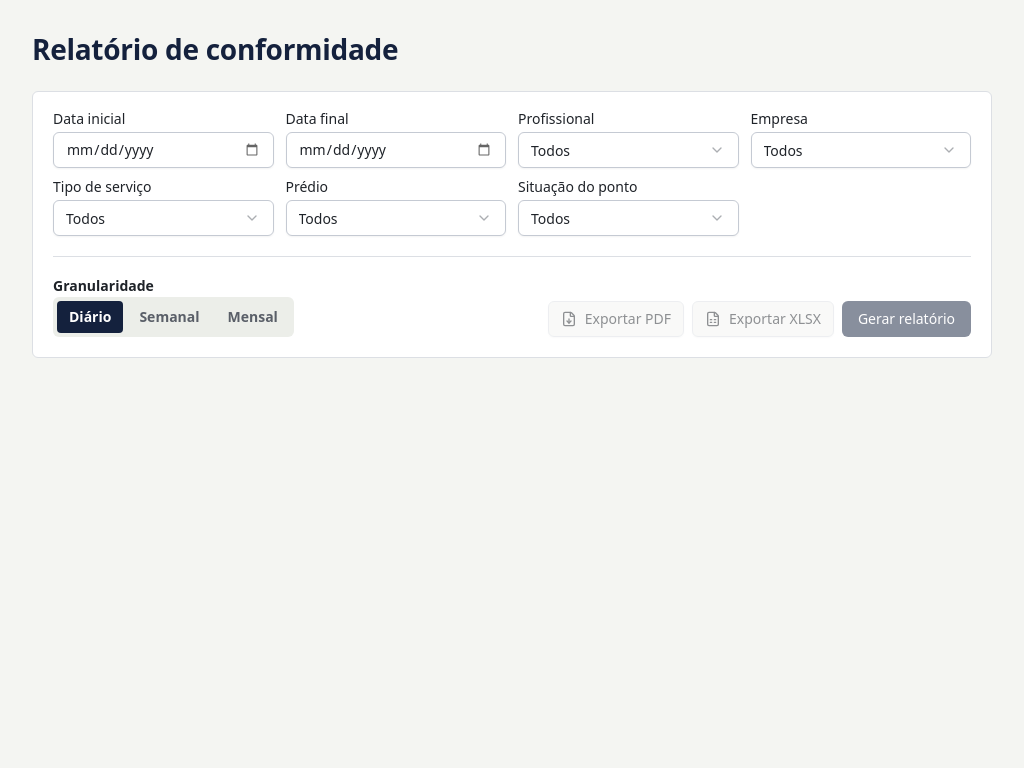
Scenario: ReportsPage › renders the period rows, a bold TOTAIS row and the pt-BR completion rate
The width and height of the screenshot is (1024, 768).
Type "2026-08-01" into the date field labelled "Data inicial" at (163, 150), box 53,132 -> 274,168
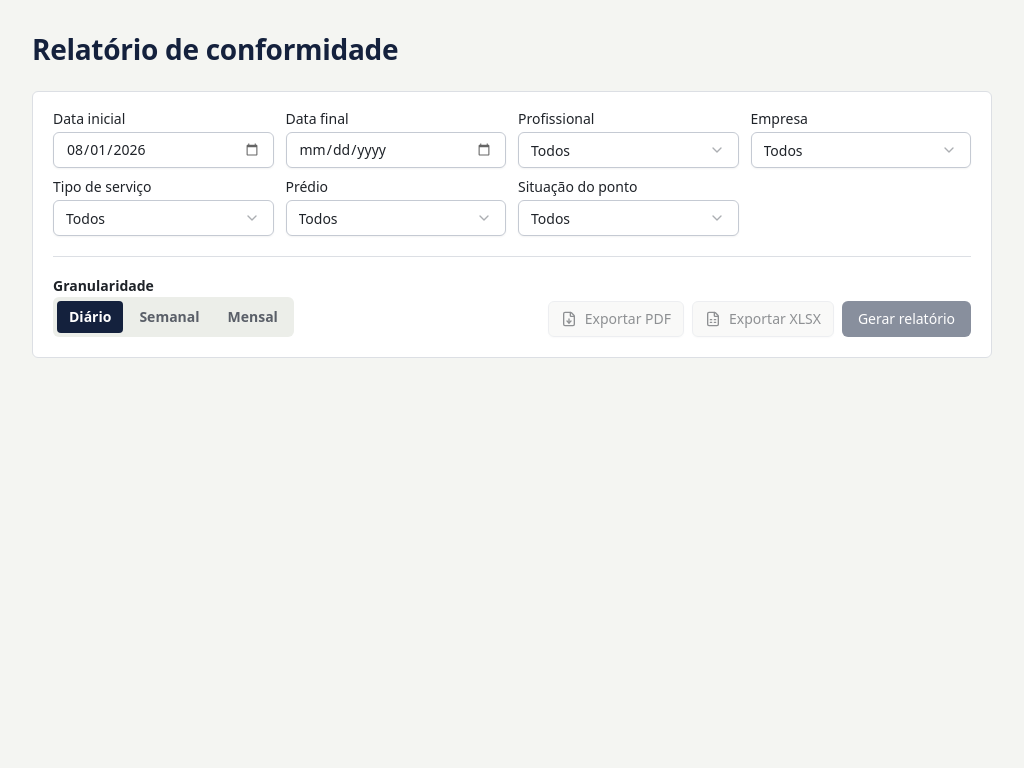
Type "2026-08-02" into the date field labelled "Data final" at (396, 150), box 286,132 -> 506,168
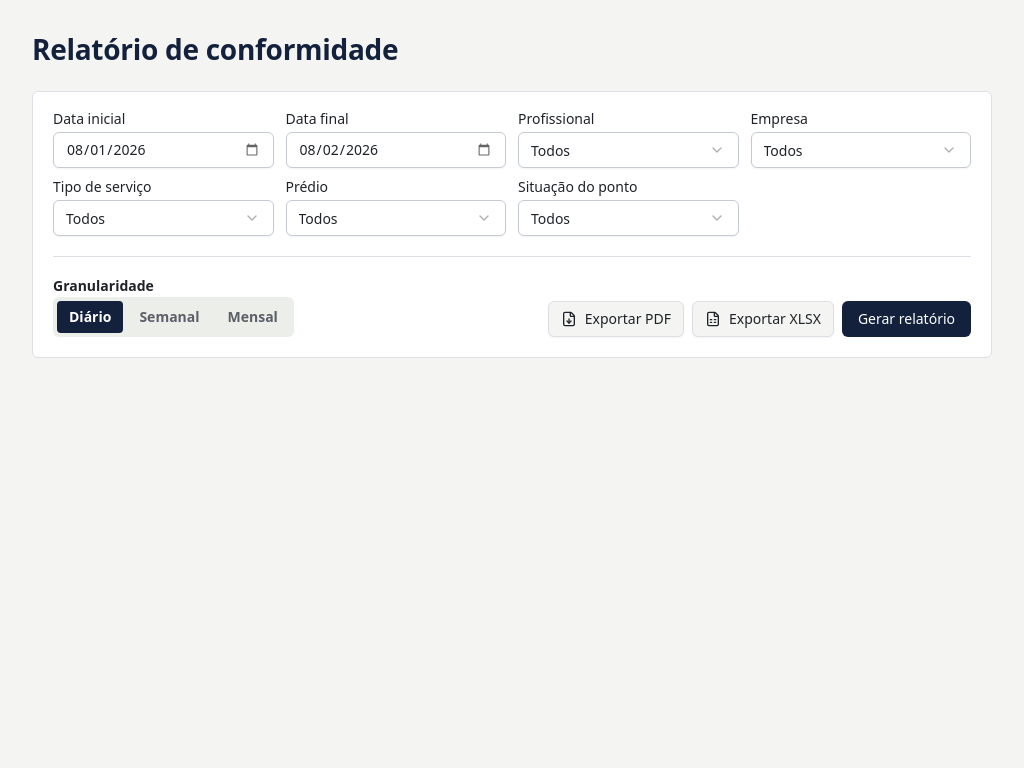
Click the button "Gerar relatório" at (906, 319), box 842,301 -> 971,337
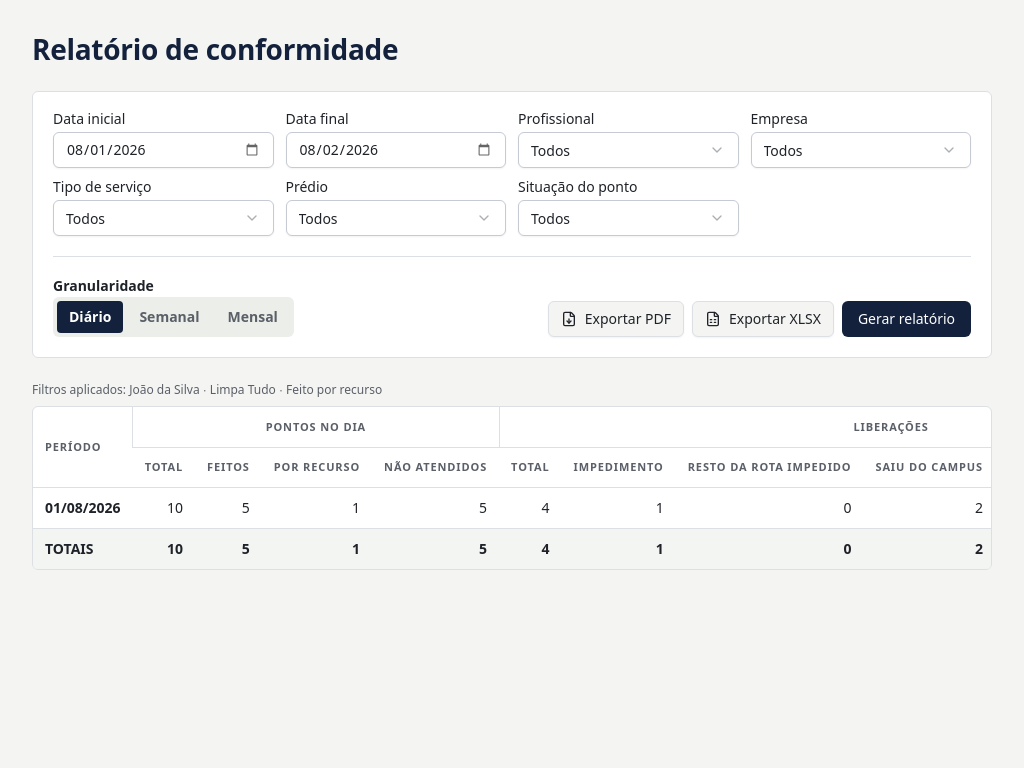
Now the cell "01/08/2026" is shown, box 33,487 -> 133,528
Now the cell "TOTAIS" is shown, box 33,528 -> 133,568
